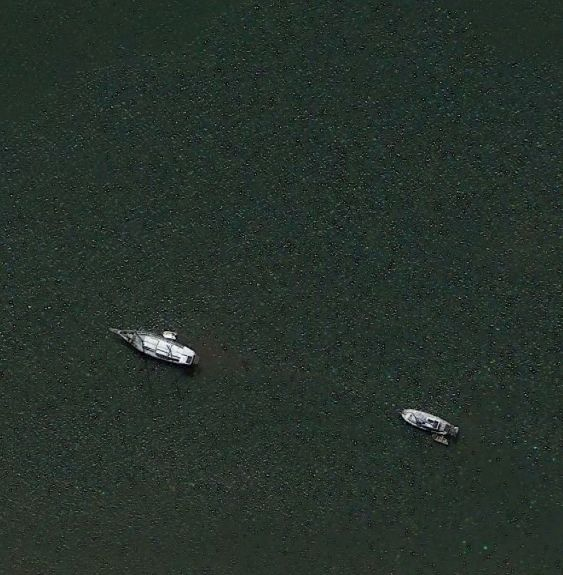boat: (106, 325, 199, 368), (396, 406, 461, 441)
